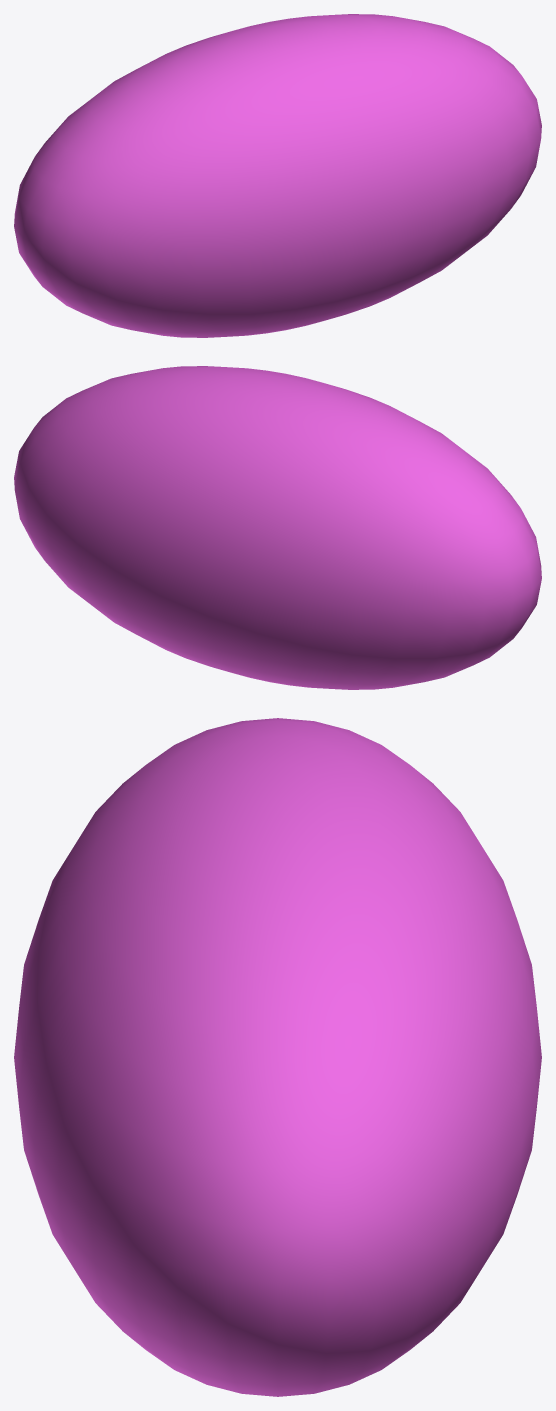
File: hacknc1.glb
3 views of the same model, one above another, from view 1: azimuth 30°, elevation 25°; view 2: azimuth 150°, elevation 25°; view 3: azimuth 270°, elevation 25° (orthographic). The views are drawn at different scales.
Visible parts, largest first — view 1: Sphere; view 2: Sphere; view 3: Sphere.
Boxes of the visible parts, x1,y1,x2,y2 form: Sphere: (14,14,541,337); Sphere: (14,366,541,689); Sphere: (14,718,541,1396).
Size of the model in its own units: 10.24 by 5.38 by 5.06.
